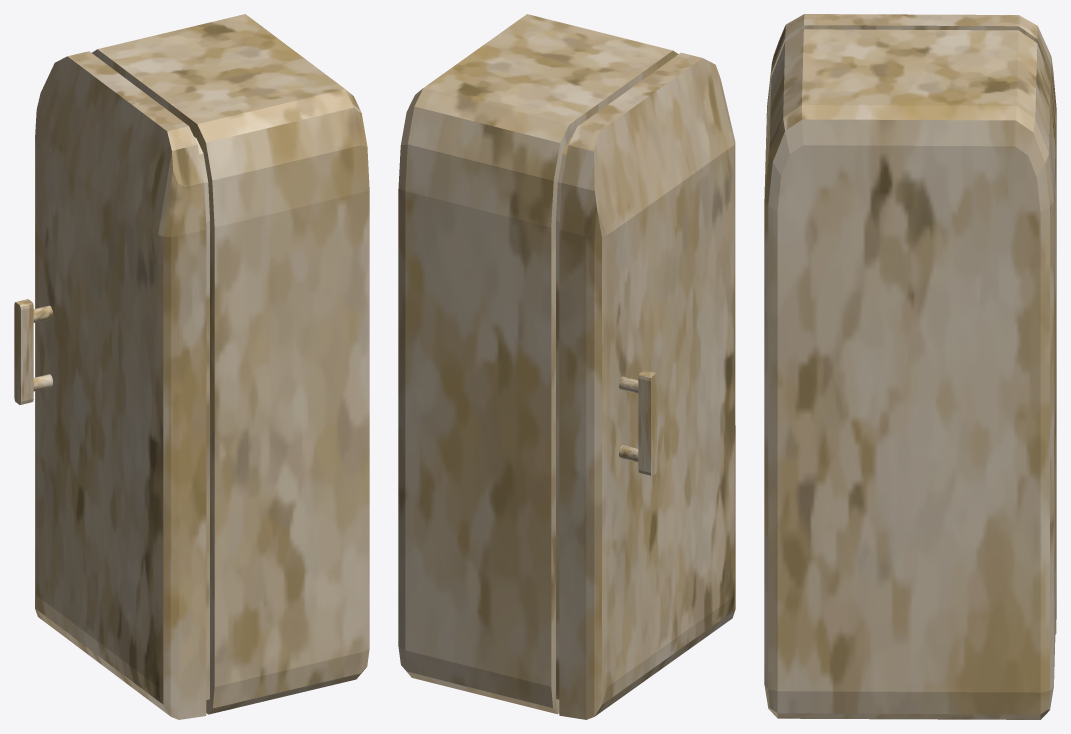
The model's file is refrigerator.fbx.
The picture shows the model from 3 angles, left to right: view 1: azimuth 30°, elevation 25°; view 2: azimuth 150°, elevation 25°; view 3: azimuth 270°, elevation 25°; orthographic projection. The views are drawn at different scales.
Visible parts, largest first — view 1: Cube.049; view 2: Cube.049; view 3: Cube.049.
Boxes of the visible parts, left/top/right/bottom form: Cube.049: left=14, top=14, right=369, bottom=719; Cube.049: left=398, top=14, right=735, bottom=719; Cube.049: left=764, top=14, right=1056, bottom=719.
Bounding box in the file's own units: 204 × 468 × 202.
